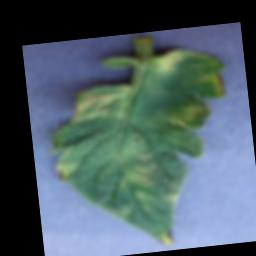Leaf_Mold: (69, 92, 123, 123), (147, 47, 195, 77), (53, 162, 78, 184), (209, 73, 226, 97), (155, 229, 176, 246)
